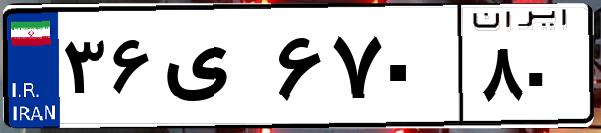0: (385, 28, 445, 110), (525, 38, 570, 115)
3: (57, 26, 110, 100)
6: (270, 28, 330, 110), (110, 28, 158, 98)
7: (330, 28, 385, 110)
8: (475, 38, 525, 113)
ی: (158, 20, 270, 120)
